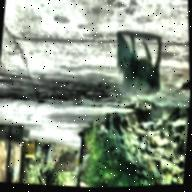boar: (111, 33, 176, 109)
